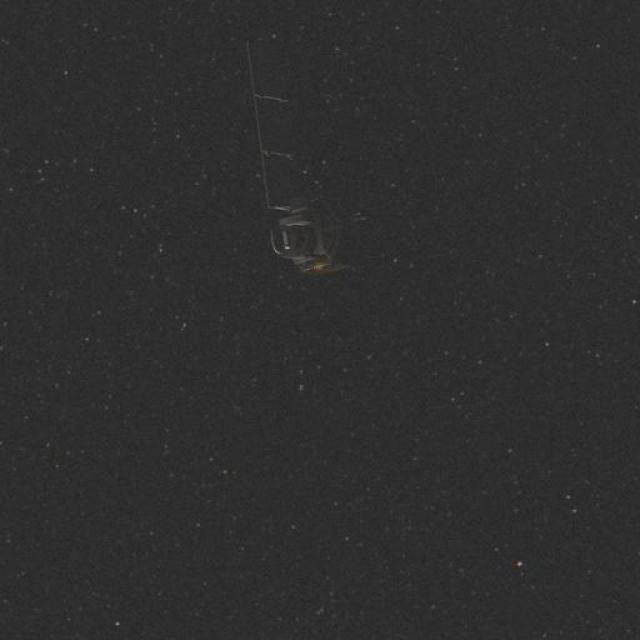earth_observation_sat_1: (225, 3, 382, 290)
